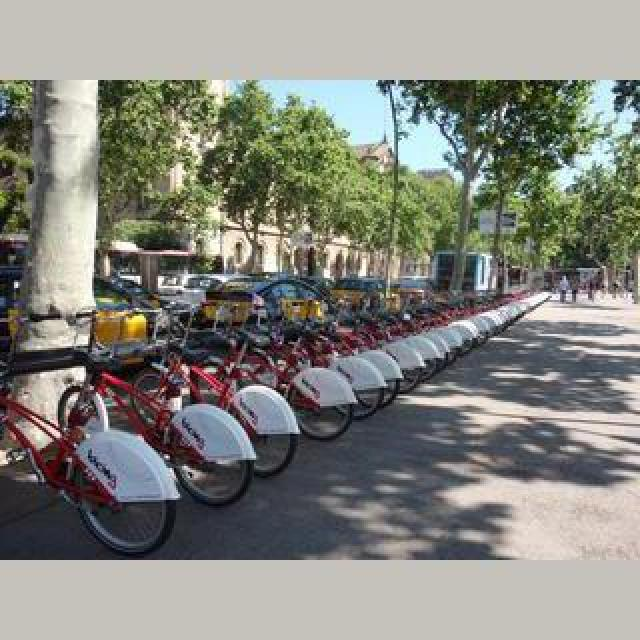Person: (64, 294, 264, 510), (2, 320, 180, 558)
